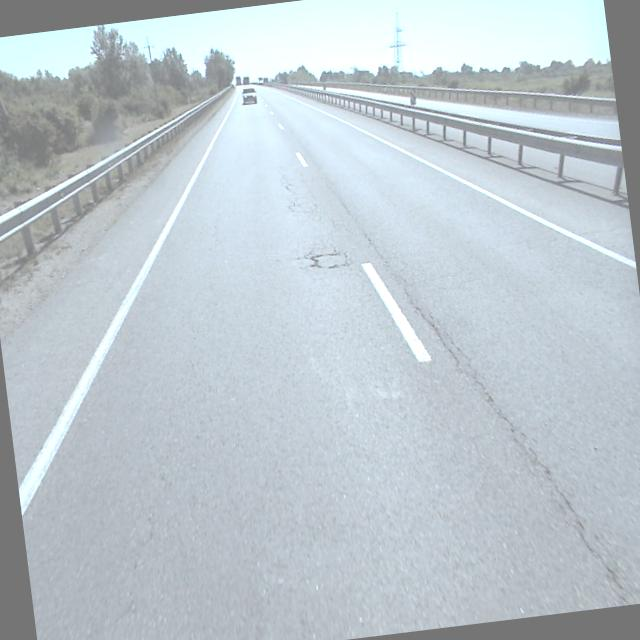road: (1, 85, 640, 640)
